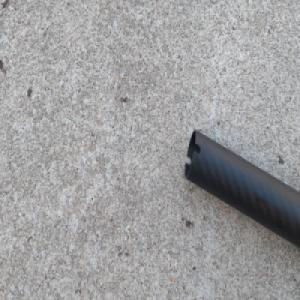LuggagePart: (183, 126, 300, 254)
